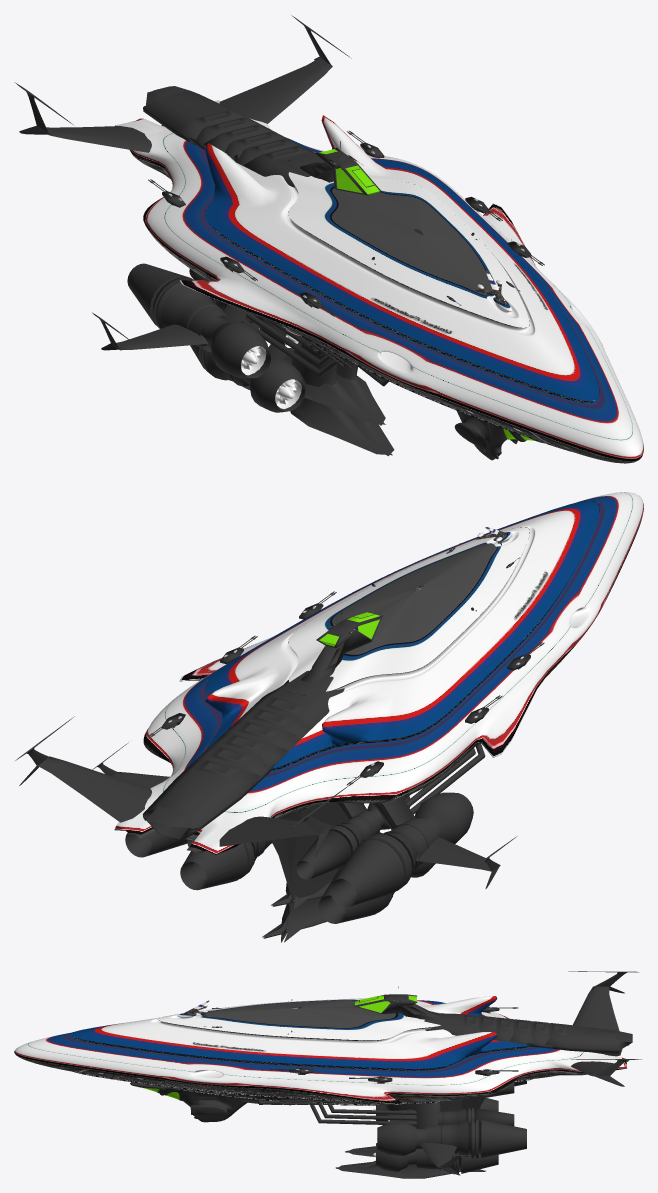
File: Class II Gallactic Cruiser.obj
3 views of the same model, one above another, from view 1: azimuth 30°, elevation 25°; view 2: azimuth 150°, elevation 25°; view 3: azimuth 270°, elevation 25° (orthographic). The views are drawn at different scales.
Visible parts, largest first — view 1: ship body, a1windows 2, eng covers2, ship glass; view 2: ship body, a1windows 2; view 3: ship body, a1windows 2, ship glass.
Part boxes in pixels (left/top/right/bottom): ship body: left=14, top=15, right=643, bottom=463; a1windows 2: left=205, top=162, right=599, bottom=451; eng covers2: left=241, top=334, right=301, bottom=408; ship glass: left=319, top=149, right=534, bottom=440; ship body: left=15, top=492, right=643, bottom=942; a1windows 2: left=205, top=501, right=599, bottom=817; ship body: left=14, top=971, right=641, bottom=1178; a1windows 2: left=69, top=1000, right=532, bottom=1105; ship glass: left=142, top=995, right=416, bottom=1099.
Size of the model in its own units: 155 by 108 by 334.
Materials: 5 (2 with a texture image).
